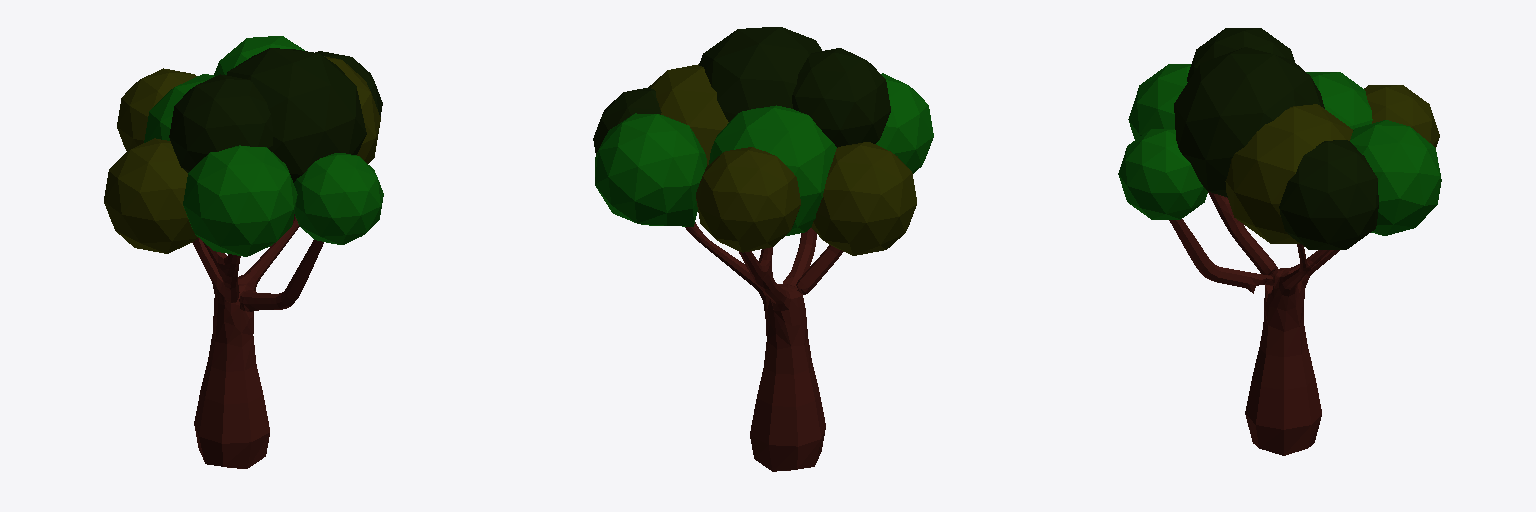
Rendered from ploytree5.obj.
3 renders of one model, left to right at view 1: azimuth 30°, elevation 25°; view 2: azimuth 150°, elevation 25°; view 3: azimuth 270°, elevation 25°, orthographic.
Visible parts, largest first — view 1: Cube_Cube.001, Icosphere.009, Icosphere, Icosphere.001, Icosphere.002, Icosphere.007, Icosphere.008, Icosphere.003, Icosphere.006, Icosphere.004, Icosphere.005; view 2: Cube_Cube.001, Icosphere.004, Icosphere.001, Icosphere.008, Icosphere.009, Icosphere.002, Icosphere.006, Icosphere.003, Icosphere, Icosphere.005; view 3: Cube_Cube.001, Icosphere.009, Icosphere.005, Icosphere.003, Icosphere.004, Icosphere.007, Icosphere, Icosphere.008, Icosphere.006, Icosphere.002.
Part boxes in pixels (bbox=[...]): Cube_Cube.001: bbox=[192, 214, 323, 468]; Icosphere.009: bbox=[227, 48, 366, 182]; Icosphere: bbox=[183, 145, 297, 256]; Icosphere.001: bbox=[104, 138, 198, 253]; Icosphere.002: bbox=[169, 74, 272, 172]; Icosphere.007: bbox=[294, 153, 383, 244]; Icosphere.008: bbox=[117, 68, 196, 151]; Icosphere.003: bbox=[324, 56, 380, 163]; Icosphere.006: bbox=[144, 74, 214, 142]; Icosphere.004: bbox=[214, 36, 304, 75]; Icosphere.005: bbox=[315, 51, 382, 116]; Cube_Cube.001: bbox=[685, 222, 843, 471]; Icosphere.004: bbox=[595, 113, 706, 226]; Icosphere.001: bbox=[811, 142, 916, 255]; Icosphere.008: bbox=[696, 147, 800, 252]; Icosphere.009: bbox=[699, 27, 821, 121]; Icosphere.002: bbox=[792, 48, 890, 147]; Icosphere.006: bbox=[709, 105, 836, 235]; Icosphere.003: bbox=[649, 64, 728, 165]; Icosphere: bbox=[876, 73, 933, 173]; Icosphere.005: bbox=[593, 87, 661, 154]; Cube_Cube.001: bbox=[1169, 192, 1339, 455]; Icosphere.009: bbox=[1174, 47, 1324, 197]; Icosphere.005: bbox=[1279, 140, 1378, 249]; Icosphere.003: bbox=[1225, 104, 1352, 243]; Icosphere.004: bbox=[1350, 120, 1441, 235]; Icosphere.007: bbox=[1118, 129, 1207, 219]; Icosphere: bbox=[1128, 64, 1190, 139]; Icosphere.008: bbox=[1364, 85, 1439, 147]; Icosphere.006: bbox=[1306, 72, 1372, 129]; Icosphere.002: bbox=[1187, 28, 1294, 81].
Bounding box in the file's own units: 4.13 × 5.8 × 4.08.